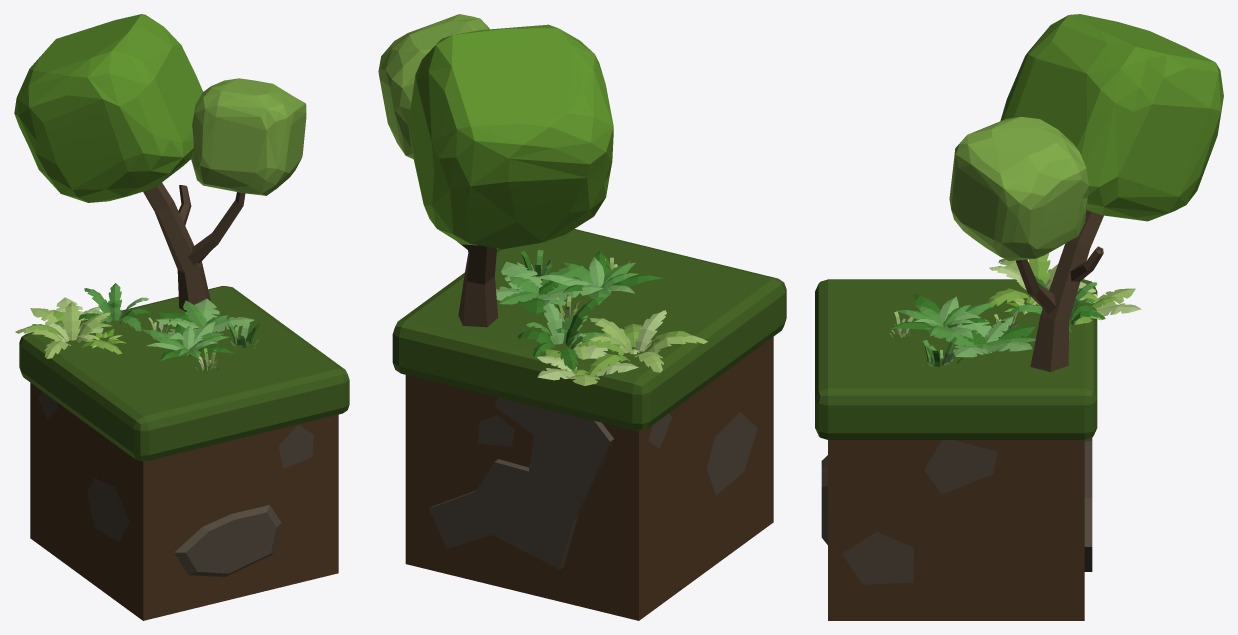
The model's file is TreeTile1.glb.
3 views of the same model, side by side, from view 1: azimuth 30°, elevation 25°; view 2: azimuth 150°, elevation 25°; view 3: azimuth 270°, elevation 25° (orthographic). The views are drawn at different scales.
Visible parts, largest first — view 1: Main_Big_1_1_Clone_, Tree_10, Big_Grass_Tile_0, Plane_006, Bust_12, Bust_16, Bust_14, Bust_13, Bust_0; view 2: Main_Big_1_1_Clone_, Tree_10, Big_Grass_Tile_0, Plane_006, Bust_12, Bust_14, Bust_16, Bust_13; view 3: Tree_10, Main_Big_1_1_Clone_, Big_Grass_Tile_0, Bust_12, Bust_16, Plane_006, Bust_13, Bust_14, Bust_0.
Part boxes in pixels (<box>): Main_Big_1_1_Clone_: <box>30,383,338,620</box>; Tree_10: <box>14,14,306,311</box>; Big_Grass_Tile_0: <box>19,286,349,461</box>; Plane_006: <box>15,302,122,358</box>; Bust_12: <box>156,298,254,341</box>; Bust_16: <box>141,321,234,360</box>; Bust_14: <box>78,283,150,331</box>; Bust_13: <box>30,297,112,333</box>; Bust_0: <box>227,321,259,349</box>; Main_Big_1_1_Clone_: <box>405,337,773,620</box>; Tree_10: <box>378,14,613,327</box>; Big_Grass_Tile_0: <box>392,229,786,430</box>; Plane_006: <box>577,310,707,376</box>; Bust_12: <box>496,261,602,313</box>; Bust_14: <box>517,297,610,370</box>; Bust_16: <box>535,251,663,304</box>; Bust_13: <box>537,341,638,385</box>; Tree_10: <box>949,14,1223,371</box>; Main_Big_1_1_Clone_: <box>821,438,1092,620</box>; Big_Grass_Tile_0: <box>815,279,1097,439</box>; Bust_12: <box>926,310,1035,357</box>; Bust_16: <box>890,294,996,338</box>; Plane_006: <box>987,253,1098,307</box>; Bust_13: <box>1038,281,1141,324</box>; Bust_14: <box>1008,276,1105,338</box>; Bust_0: <box>922,336,963,369</box>.
Size of the model in its own units: 2.74 by 4.65 by 3.19.
Materials: 1 (1 with a texture image).
